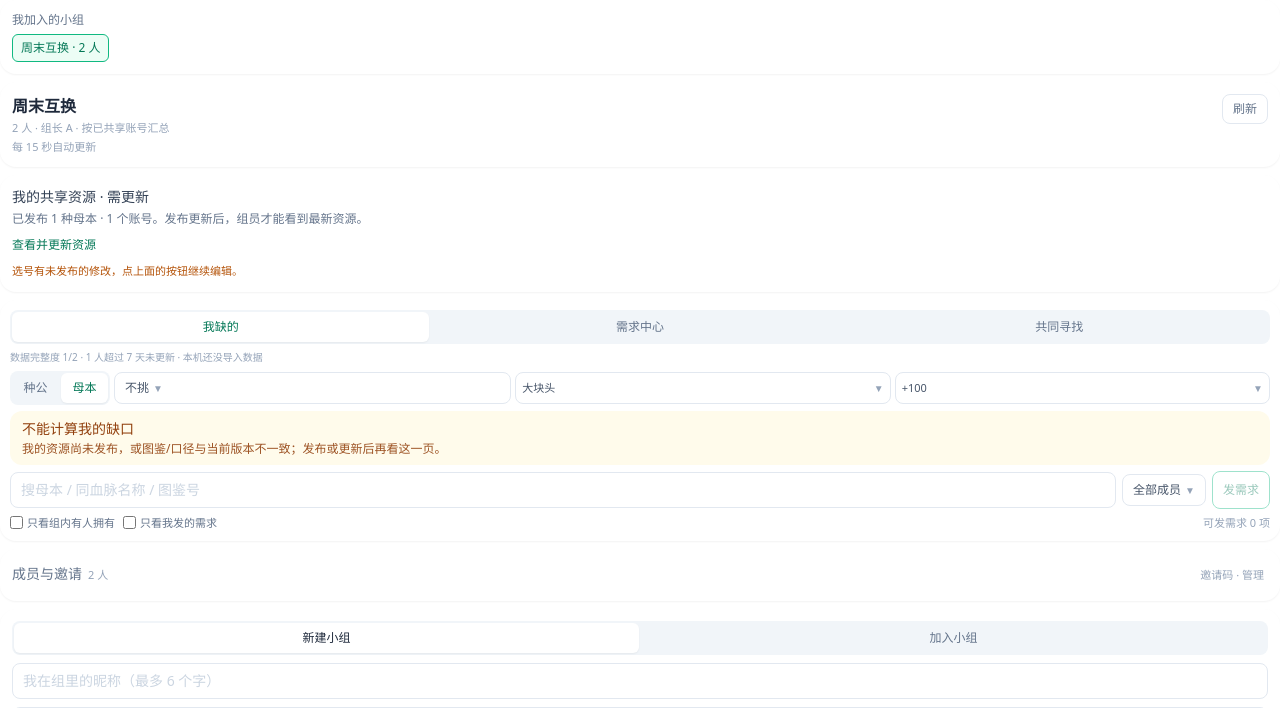
Test: MotherSharing 入口与状态 › 选号编辑器可以再次点击收起；有草稿时收起会提示继续编辑
Click the button with test id "mother-edit-resources".
click(54, 245)  # box 12,231 -> 96,259
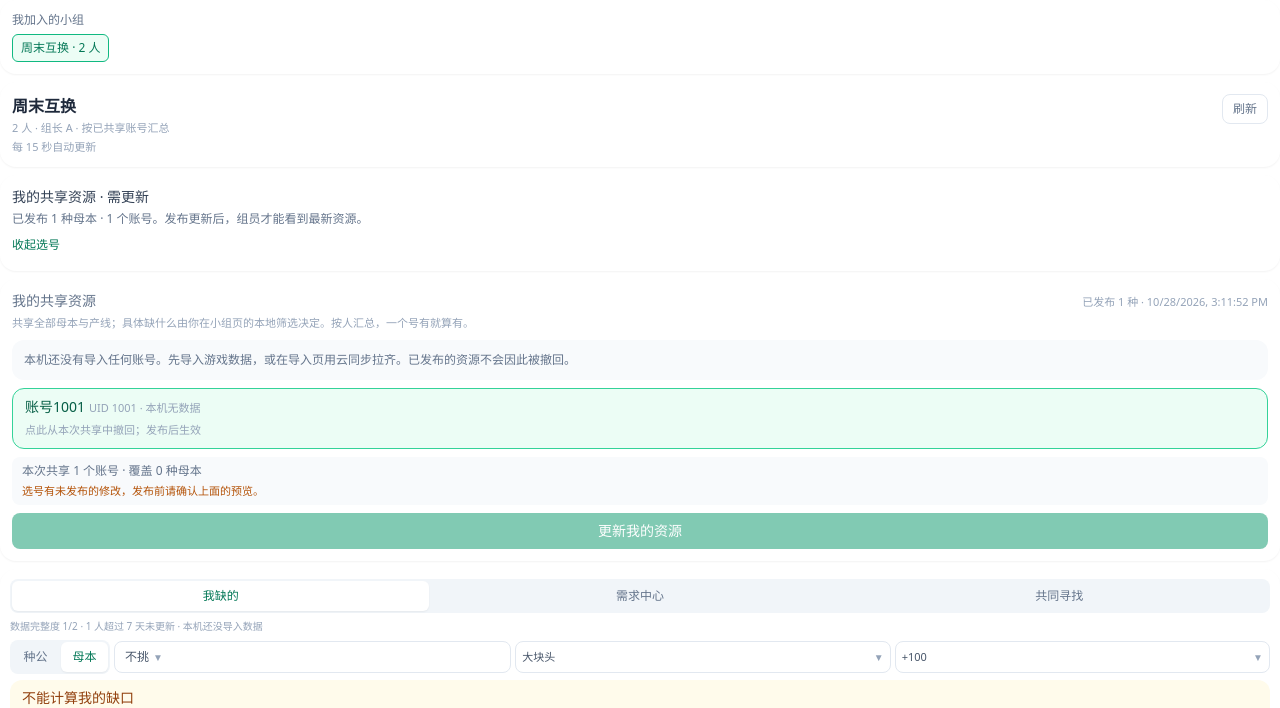
Click the button with test id "mother-edit-resources".
click(36, 245)  # box 12,231 -> 60,259
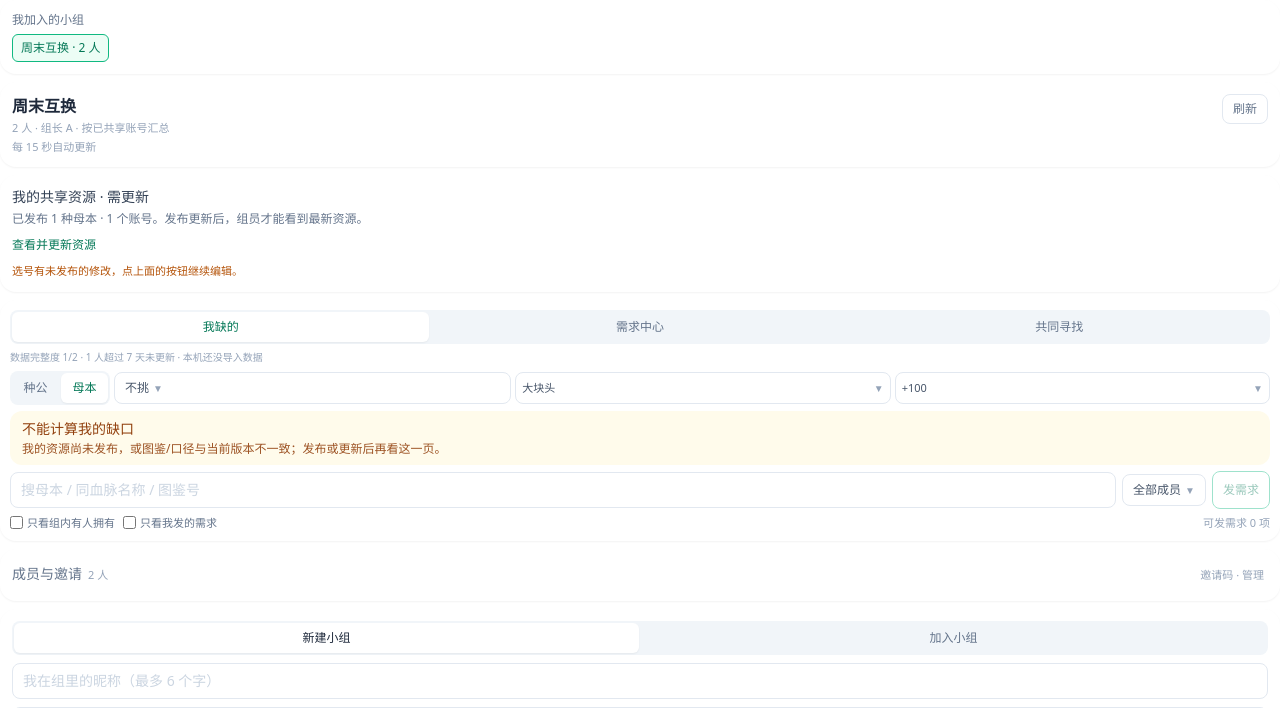
Expected: the element with test id "mother-resource-editor" is gone
Expected: the text with test id "mother-draft-collapsed" shows "有未发布的修改", 12,263 -> 243,278
Click the button with test id "mother-edit-resources".
click(54, 245)  # box 12,231 -> 96,259
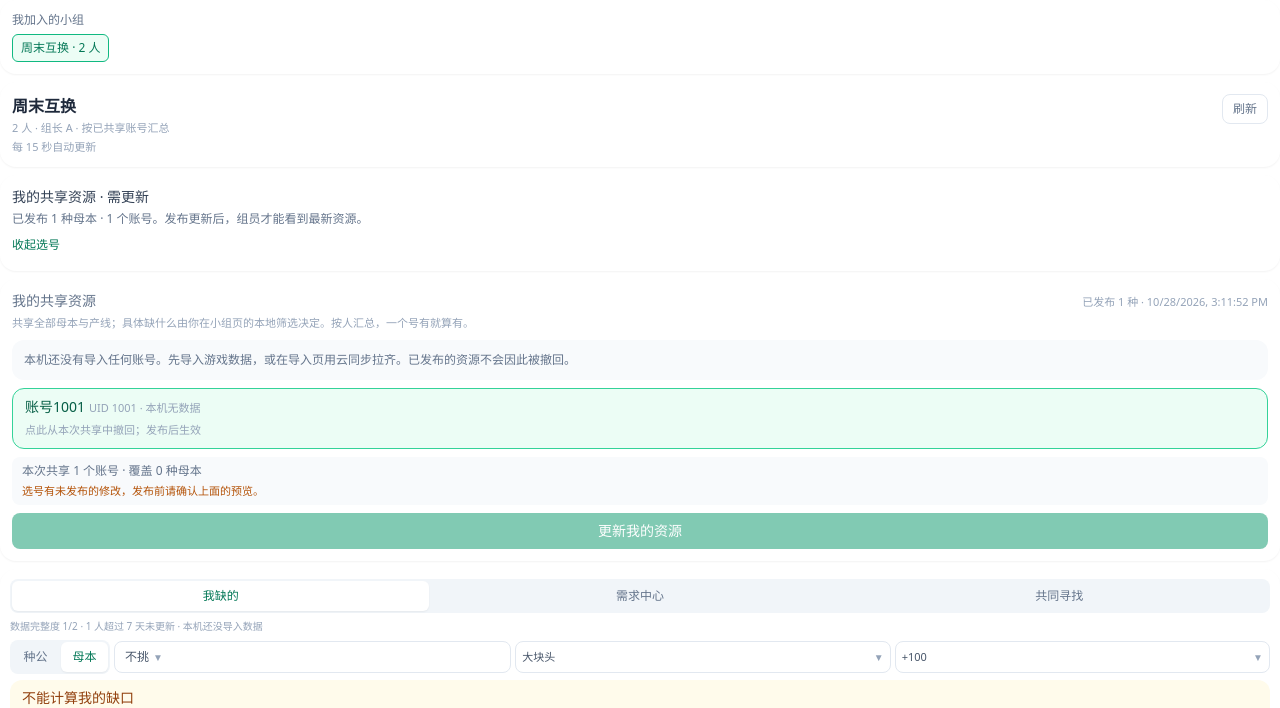
Expected: the element with test id "mother-resource-editor" is shown, 0,279 -> 1279,561
